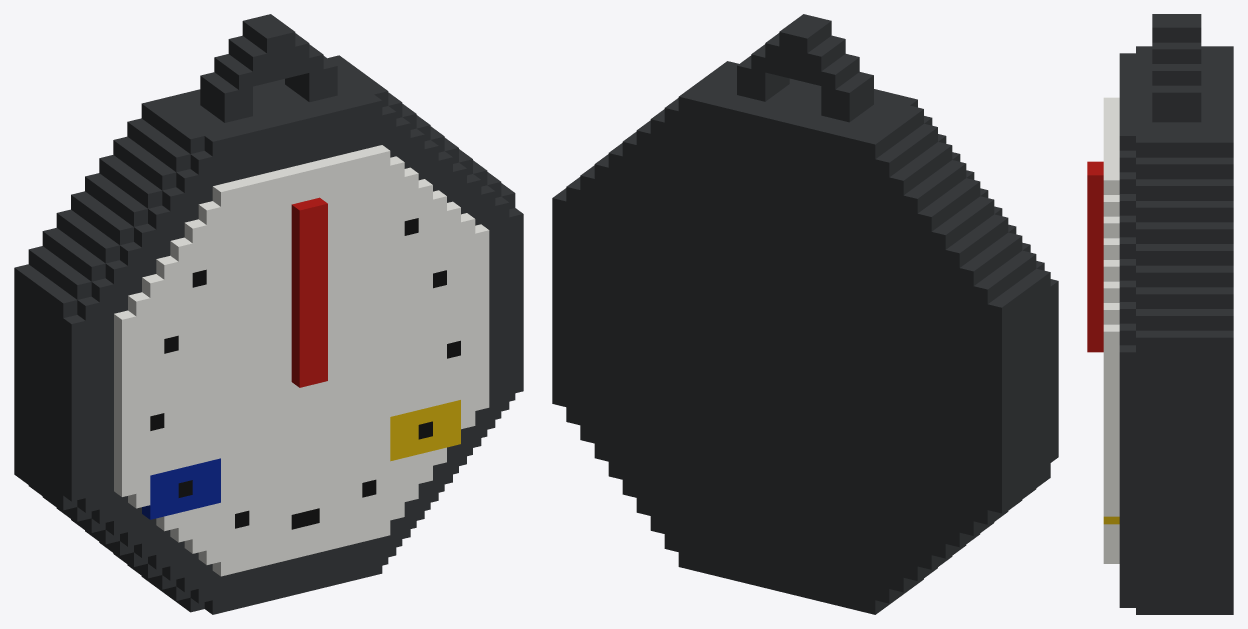
Rendered from barometer.glb.
3 views of the same model, side by side, from view 1: azimuth 30°, elevation 25°; view 2: azimuth 150°, elevation 25°; view 3: azimuth 270°, elevation 25° (orthographic).
Visible parts, largest first — view 1: barometer:compound; view 2: barometer:compound; view 3: barometer:compound.
Part boxes in pixels (x1,y1,x2,y2): barometer:compound: (14,14,523,614); barometer:compound: (552,14,1058,614); barometer:compound: (1087,14,1233,614).
Bounding box in the file's own units: 0.064 × 0.074 × 0.018.
